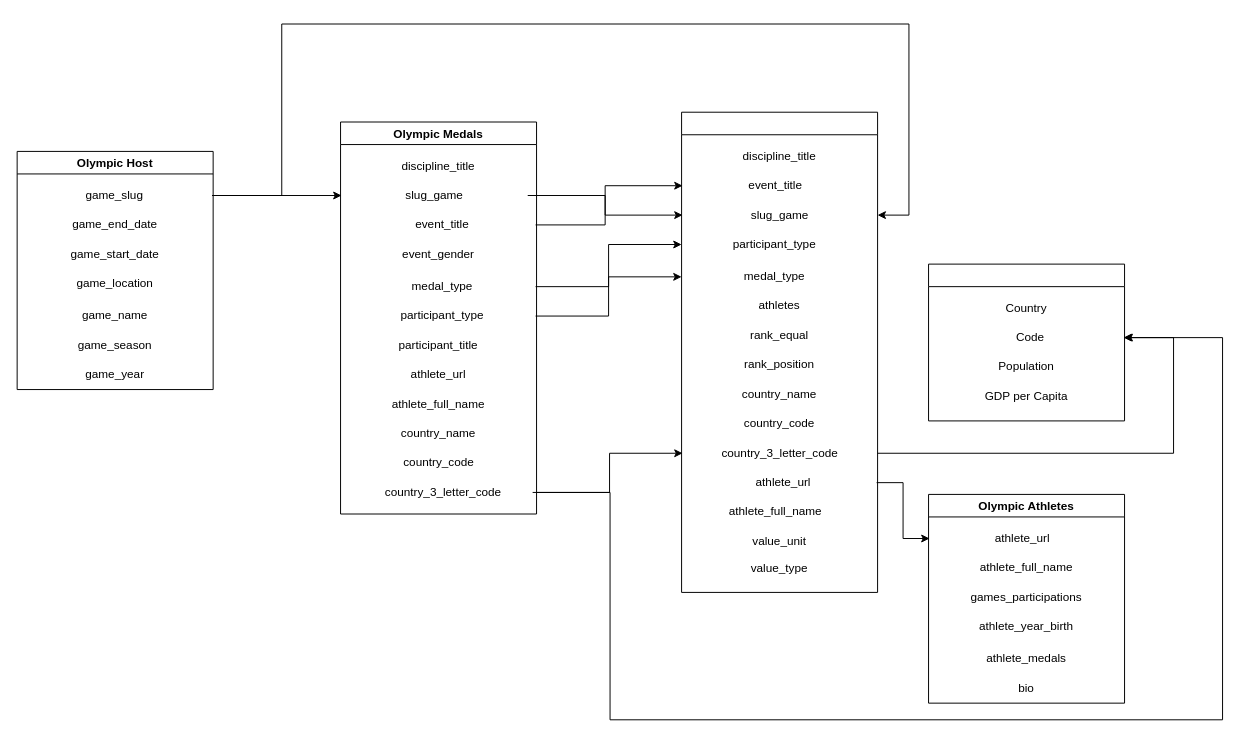
This 1248x745 diagram has some shape labels left out. The box of each missing label's shape, as (x1, y1, x2, y2) in pixels:
Countries Data: (928, 263, 1125, 421)
Olympic Results: (681, 111, 878, 592)
